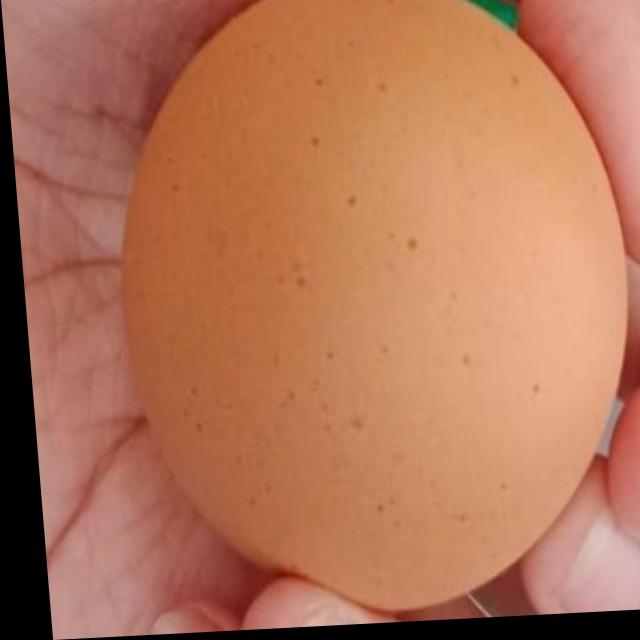unfresh: (103, 0, 640, 626)
